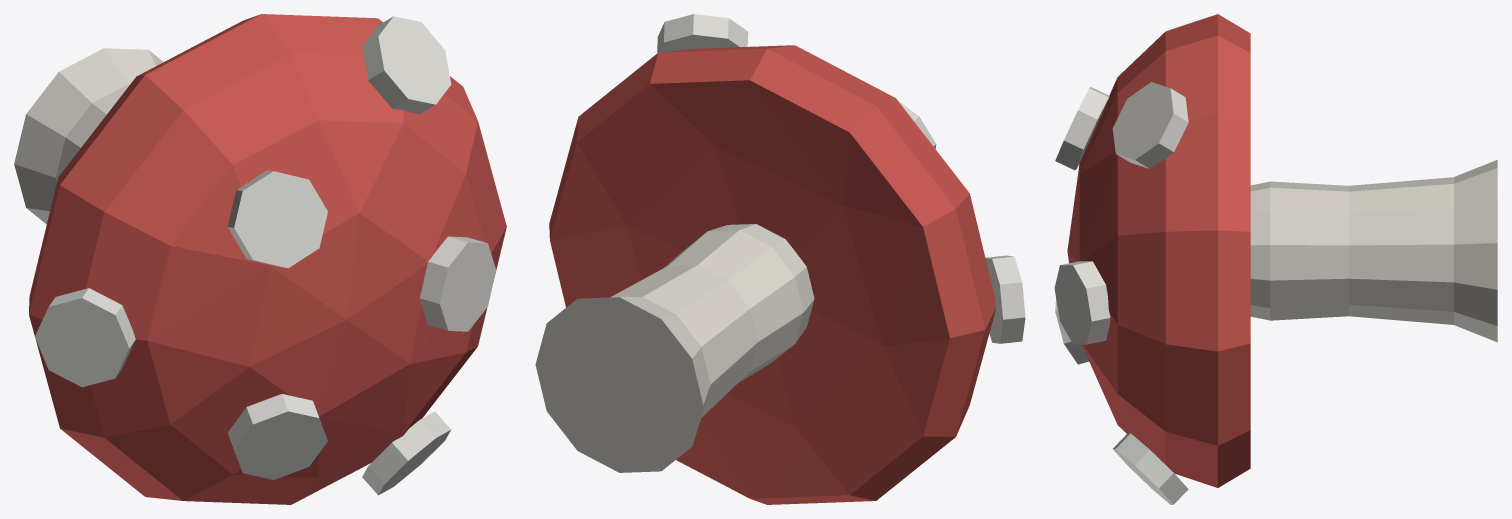
3 renders of one model, left to right at view 1: azimuth 30°, elevation 25°; view 2: azimuth 150°, elevation 25°; view 3: azimuth 270°, elevation 25°, orthographic. The views are drawn at different scales.
Visible parts, largest first — view 1: part1, part0, part3, part6, part5, part4, part2, part7; view 2: part1, part0, part5, part6; view 3: part1, part0, part5, part2, part7, part3, part4.
Part boxes in pixels (x1,y1,x2,y2): part1: (29,14,506,504); part0: (14,48,163,224); part3: (227,170,327,268); part6: (35,288,135,387); part5: (362,16,451,114); part4: (227,394,327,479); part2: (420,236,495,331); part7: (362,411,451,495); part1: (549,45,995,504); part0: (535,224,814,472); part5: (657,14,748,52); part6: (985,255,1025,343); part1: (1067,14,1250,487); part0: (1250,160,1497,342); part5: (1112,82,1188,168); part2: (1054,261,1110,344); part7: (1113,433,1188,504); part3: (1055,87,1109,170); part4: (1055,298,1088,364).
Bounding box in the file's own units: 2.27 × 2.18 × 2.03.
